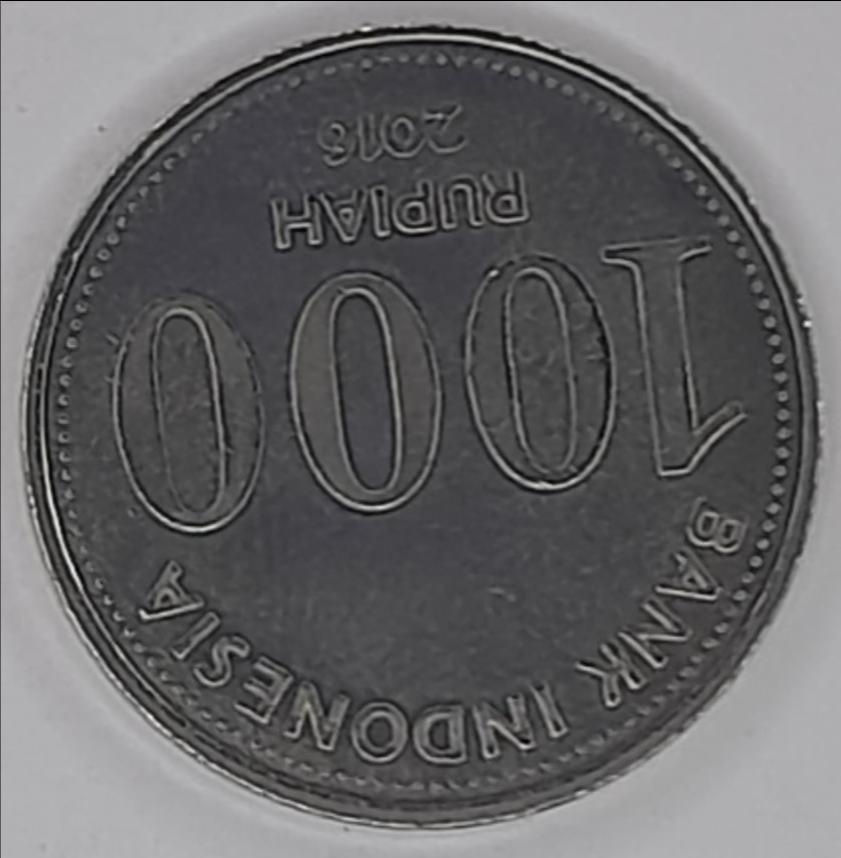coin_1000_e2016: (14, 17, 830, 858)
